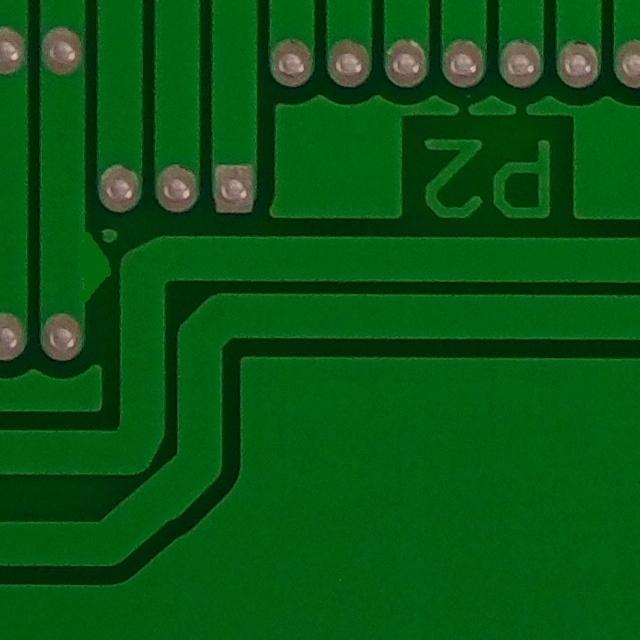spur: (57, 221, 124, 313)
